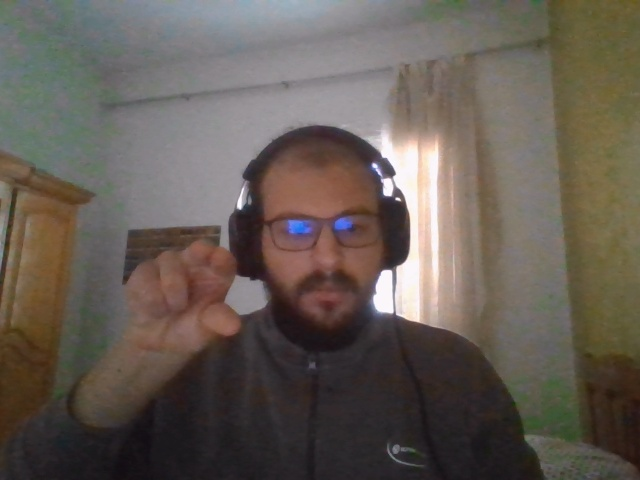No: (135, 246, 241, 350)
